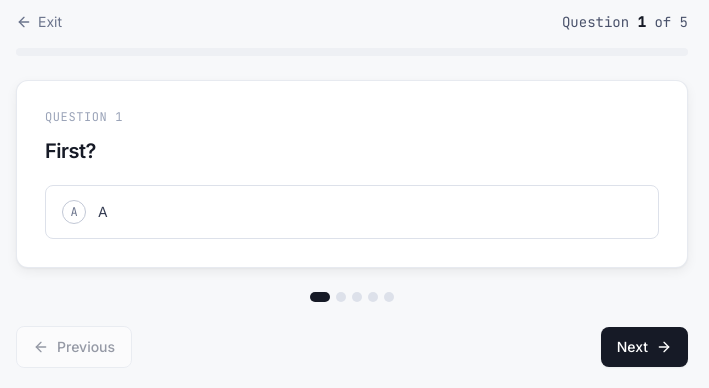
Test: QuizPlayPage › renders five questions in the server order when startQuiz returns five
The width and height of the screenshot is (709, 388).
Expected: the heading "First?" is shown, [45,139,96,163]
Click the button "Next" at (644, 347), box [601,327,688,367]
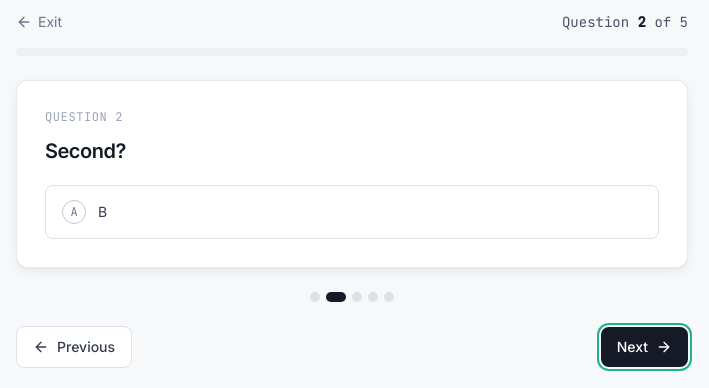
Expected: the heading "Second?" is shown, [45,139,126,163]
Click the button "Next" at (644, 347), box [601,327,688,367]
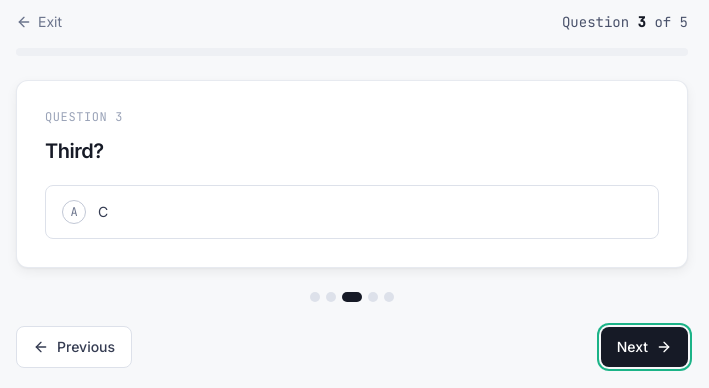
Expected: the heading "Third?" is shown, [45,139,104,163]
Click the button "Next" at (644, 347), box [601,327,688,367]
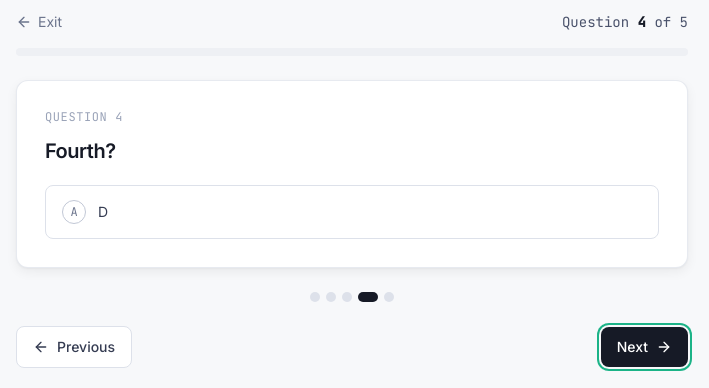
Expected: the heading "Fourth?" is shown, [45,139,116,163]
Click the button "Next" at (644, 347), box [601,327,688,367]
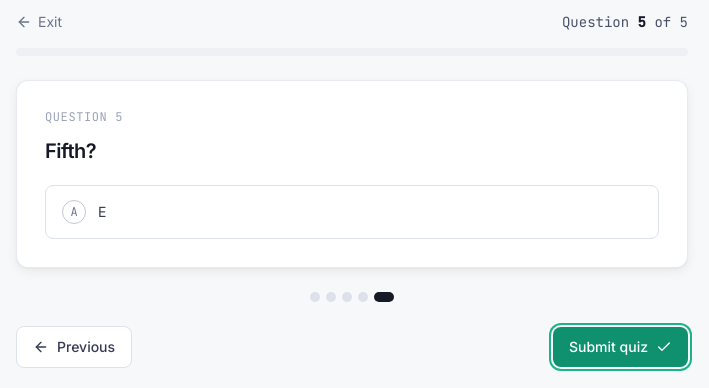
Expected: the heading "Fifth?" is shown, [45,139,96,163]
Expected: the button "Submit quiz" is shown, [553,327,688,367]
